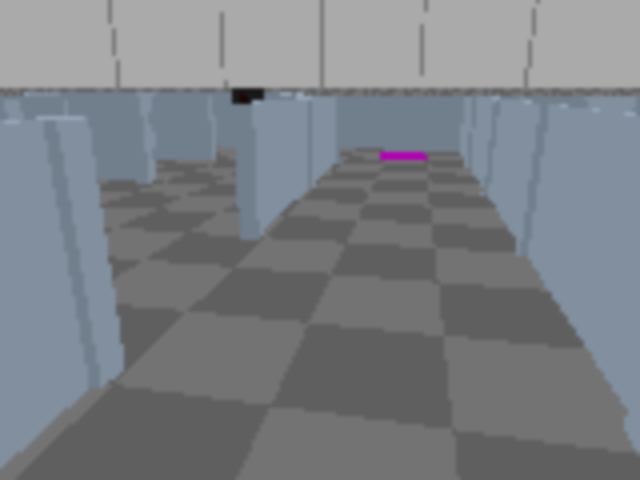goal_zone: (378, 153, 427, 161)
